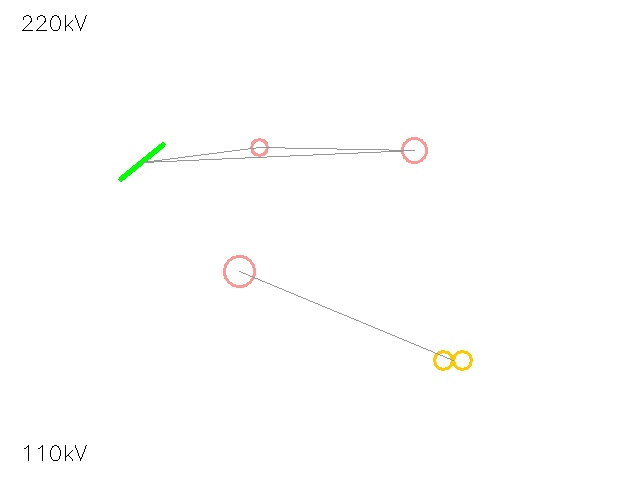busbar: (108, 128, 176, 196)
current_transformer: (243, 131, 275, 163)
reactor: (208, 240, 270, 302), (390, 126, 438, 174)
transformer_2w: (430, 337, 476, 383)
